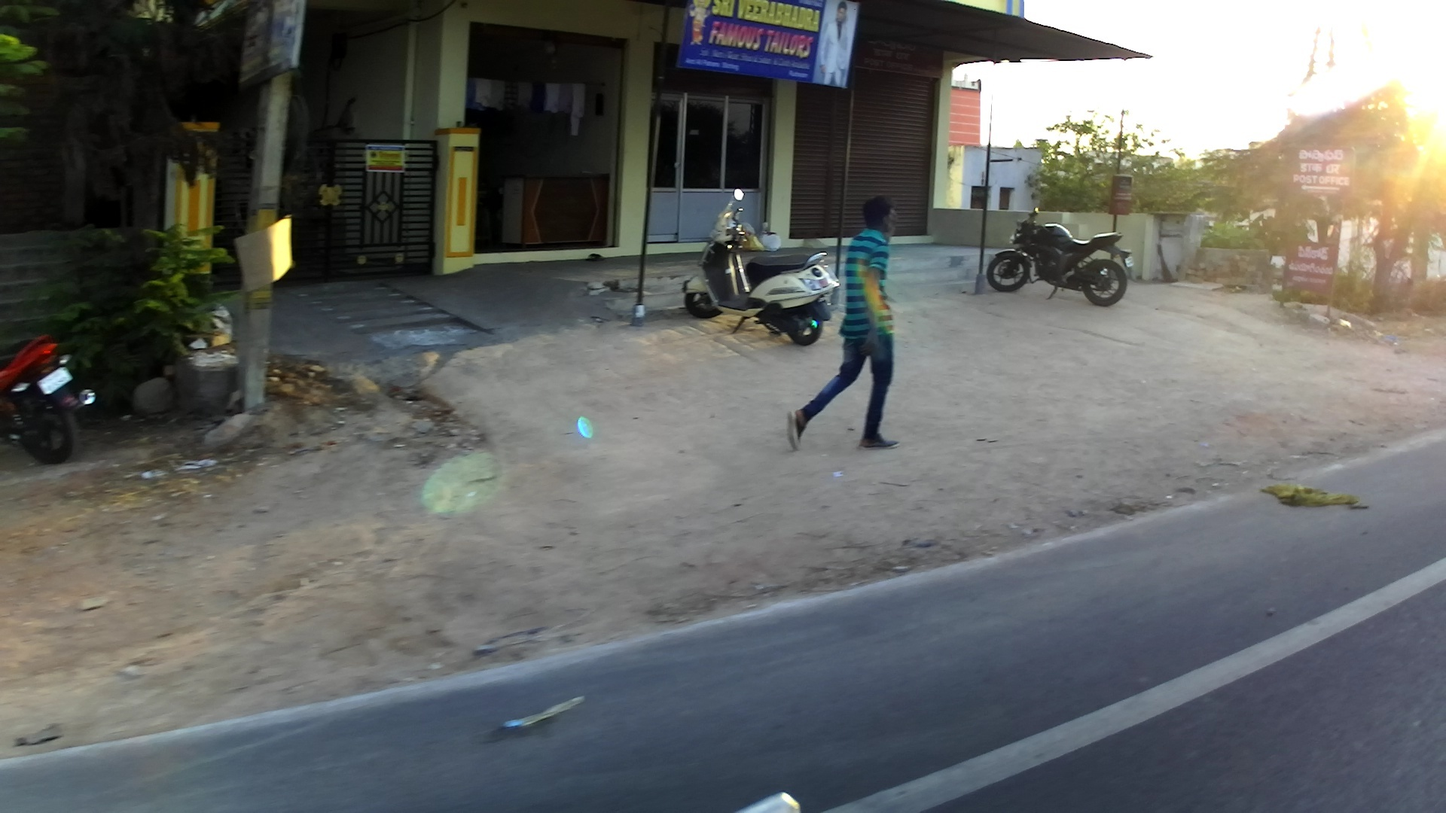motorcycle: (677, 188, 839, 354), (983, 206, 1135, 315), (0, 328, 101, 473)
person: (781, 193, 908, 452)
